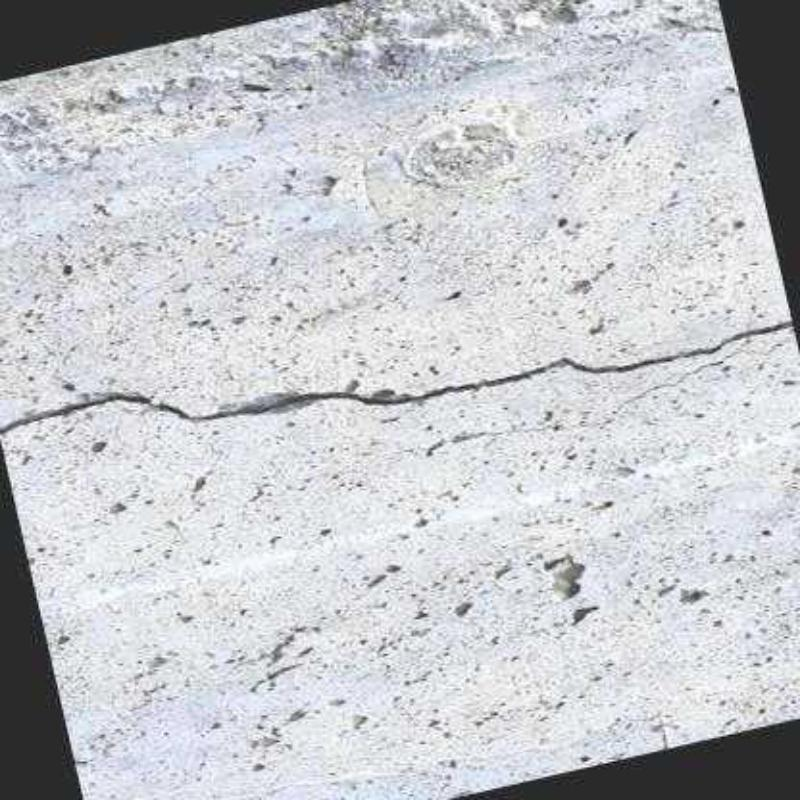pothole: (0, 316, 794, 437), (425, 338, 783, 458)
